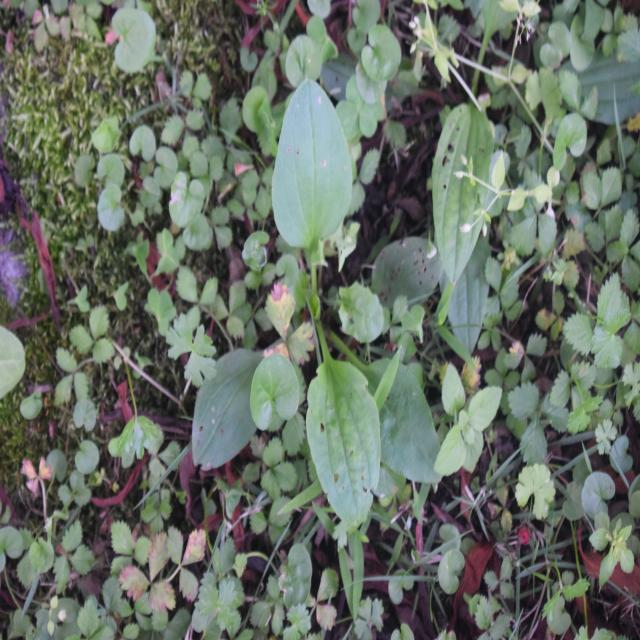plantain: (194, 100, 472, 517)
